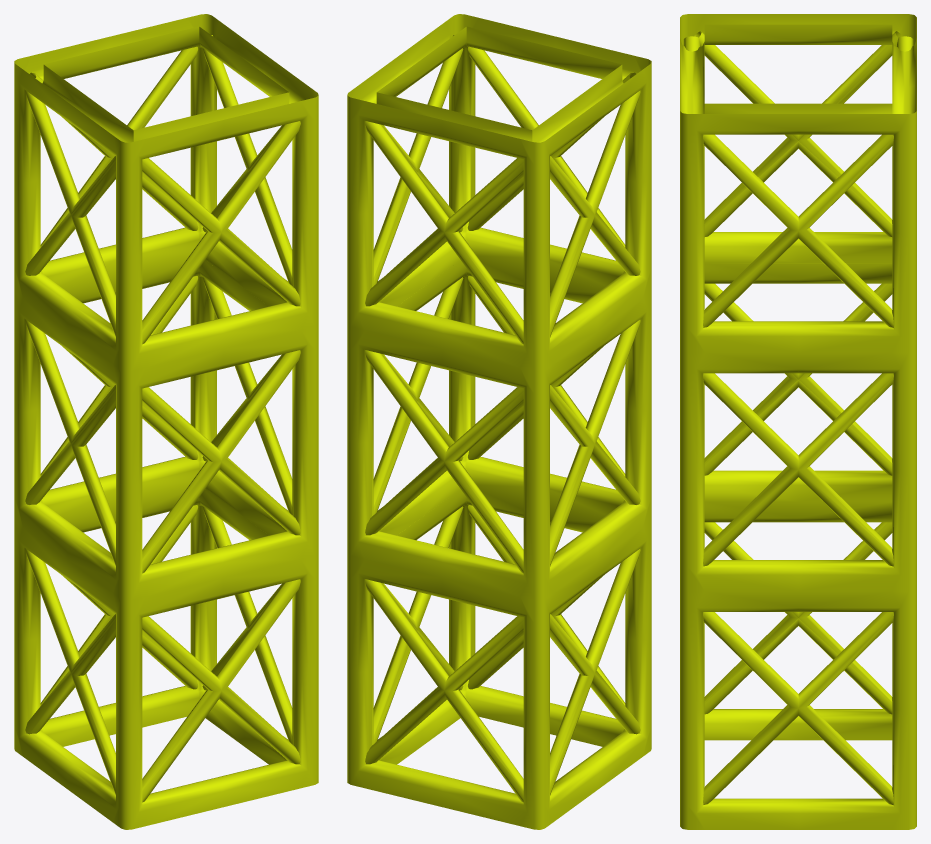
The model's file is Stup.fbx.
The picture shows the model from 3 angles, left to right: view 1: azimuth 30°, elevation 25°; view 2: azimuth 150°, elevation 25°; view 3: azimuth 270°, elevation 25°; orthographic projection. The views are drawn at different scales.
Parts seen in each view (by area): view 1: Stup; view 2: Stup; view 3: Stup.
Boxes of the visible parts, x1=… form: Stup: x1=14, y1=14, x2=318, y2=829; Stup: x1=347, y1=14, x2=651, y2=829; Stup: x1=680, y1=14, x2=916, y2=829.
Size of the model in its own units: 60 by 200 by 60.
